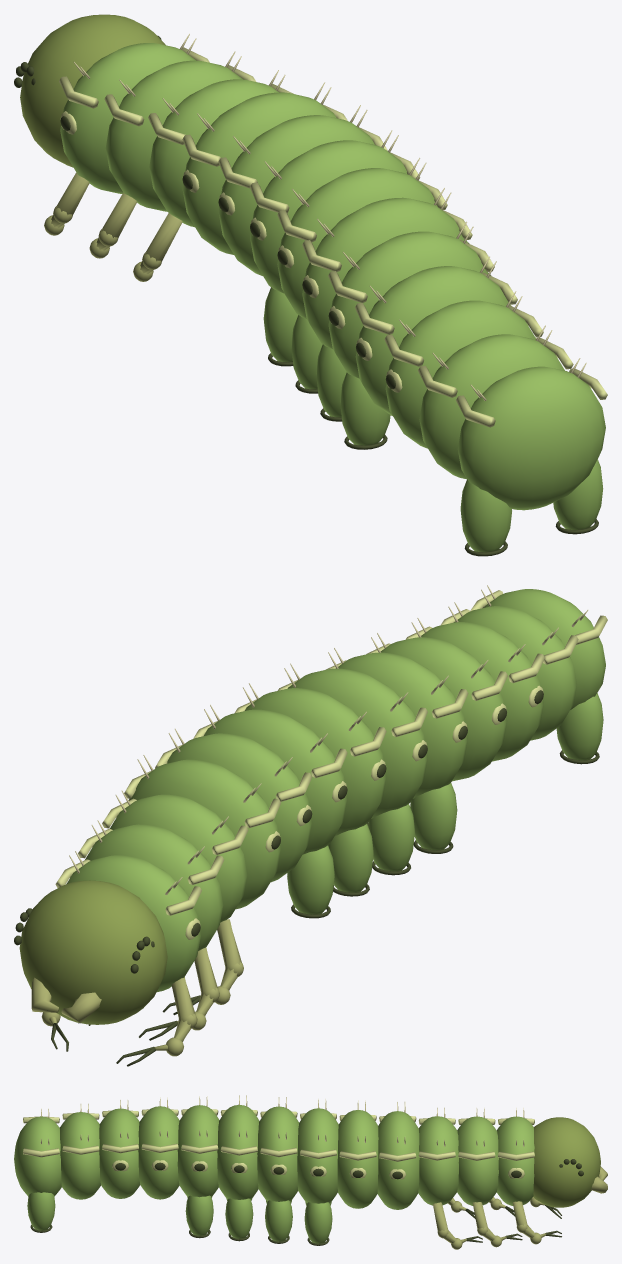
File: Caterpillar.fbx
3 renders of one model, top to bottom at view 1: azimuth 30°, elevation 25°; view 2: azimuth 150°, elevation 25°; view 3: azimuth 270°, elevation 25°, orthographic. The views are drawn at different scales.
Parts seen in each view (by area): view 1: Caterpillar_Leaf_green, Caterpillar_Lateral_cream, Caterpillar_Head_capsule, Caterpillar_Legs, Caterpillar_Spiracles_ocelli, Caterpillar_Setae; view 2: Caterpillar_Leaf_green, Caterpillar_Head_capsule, Caterpillar_Lateral_cream, Caterpillar_Legs, Caterpillar_Spiracles_ocelli, Caterpillar_Setae; view 3: Caterpillar_Leaf_green, Caterpillar_Lateral_cream, Caterpillar_Head_capsule, Caterpillar_Legs, Caterpillar_Spiracles_ocelli, Caterpillar_Setae.
Boxes of the visible parts, left/top/right/bottom form: Caterpillar_Leaf_green: left=60, top=43, right=605, bottom=552; Caterpillar_Lateral_cream: left=59, top=47, right=607, bottom=427; Caterpillar_Head_capsule: left=20, top=14, right=165, bottom=167; Caterpillar_Legs: left=44, top=172, right=182, bottom=281; Caterpillar_Spiracles_ocelli: left=14, top=35, right=598, bottom=556; Caterpillar_Setae: left=73, top=33, right=586, bottom=400; Caterpillar_Leaf_green: left=66, top=589, right=605, bottom=991; Caterpillar_Head_capsule: left=19, top=880, right=167, bottom=1024; Caterpillar_Lateral_cream: left=55, top=590, right=607, bottom=939; Caterpillar_Legs: left=31, top=919, right=243, bottom=1056; Caterpillar_Spiracles_ocelli: left=14, top=690, right=599, bottom=1066; Caterpillar_Setae: left=69, top=585, right=588, bottom=894; Caterpillar_Leaf_green: left=14, top=1105, right=534, bottom=1243; Caterpillar_Lateral_cream: left=23, top=1109, right=534, bottom=1179; Caterpillar_Head_capsule: left=533, top=1117, right=600, bottom=1207; Caterpillar_Legs: left=433, top=1166, right=607, bottom=1249; Caterpillar_Spiracles_ocelli: left=30, top=1159, right=583, bottom=1245; Caterpillar_Setae: left=40, top=1095, right=524, bottom=1146.
Bounding box in the file's own units: 0.2281 × 0.2226 × 1.
